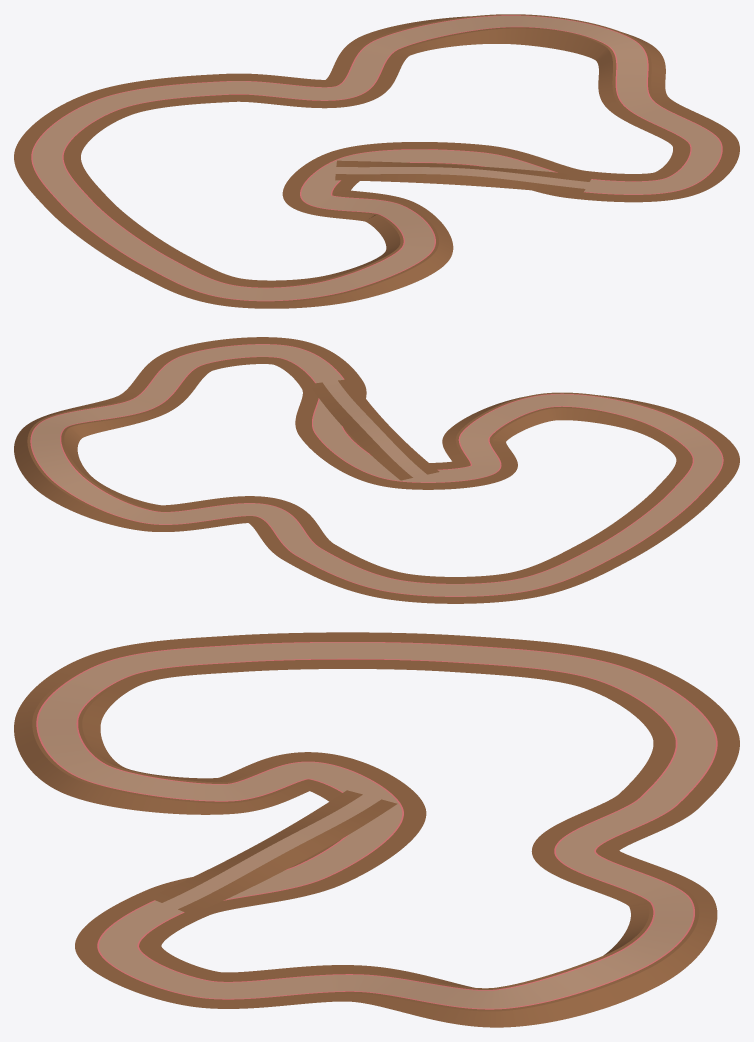
Rendered from course_feira.glb.
3 views of the same model, one above another, from view 1: azimuth 30°, elevation 25°; view 2: azimuth 150°, elevation 25°; view 3: azimuth 270°, elevation 25° (orthographic). The views are drawn at different scales.
Visible parts, largest first — view 1: Road, EarthSlopes.001, EarthSlopes, ShoulderRight, ShoulderLeft, EdgeLeft, EdgeRight, ShortcutSlopes, Shortcut, ShortcutSlopes.001; view 2: Road, EarthSlopes.001, EarthSlopes, ShoulderLeft, ShoulderRight, EdgeLeft, EdgeRight, Shortcut, ShortcutSlopes.001, ShortcutSlopes; view 3: Road, EarthSlopes, EarthSlopes.001, ShoulderLeft, ShoulderRight, EdgeLeft, ShortcutSlopes.001, EdgeRight, Shortcut, ShortcutSlopes.
Boxes of the visible parts, box(x1,y1,x2,y2) form: Road: box(32, 16, 721, 300); EarthSlopes.001: box(66, 28, 687, 286); EarthSlopes: box(14, 16, 739, 308); ShoulderRight: box(63, 27, 690, 287); ShoulderLeft: box(28, 14, 725, 302); EdgeLeft: box(31, 15, 722, 301); EdgeRight: box(62, 26, 691, 288); ShortcutSlopes: box(335, 174, 585, 194); Shortcut: box(335, 167, 589, 188); ShortcutSlopes.001: box(336, 160, 592, 181); Road: box(31, 344, 722, 596); EarthSlopes.001: box(64, 358, 689, 582); EarthSlopes: box(14, 337, 739, 603); ShoulderLeft: box(27, 342, 726, 598); ShoulderRight: box(61, 357, 692, 583); EdgeLeft: box(30, 344, 723, 596); EdgeRight: box(60, 356, 693, 584); Shortcut: box(322, 380, 426, 477); ShortcutSlopes.001: box(309, 382, 412, 480); ShortcutSlopes: box(338, 379, 439, 474); Road: box(38, 642, 715, 1008); EarthSlopes: box(14, 632, 739, 1027); EarthSlopes.001: box(82, 661, 671, 987); ShoulderLeft: box(32, 640, 721, 1011); ShoulderRight: box(78, 659, 675, 989); EdgeLeft: box(36, 642, 717, 1009); ShortcutSlopes.001: box(178, 799, 397, 914); EdgeRight: box(76, 658, 677, 990); Shortcut: box(162, 794, 380, 909); ShortcutSlopes: box(148, 790, 362, 902).
Size of the model in its own units: 389 by 6.9 by 302.
